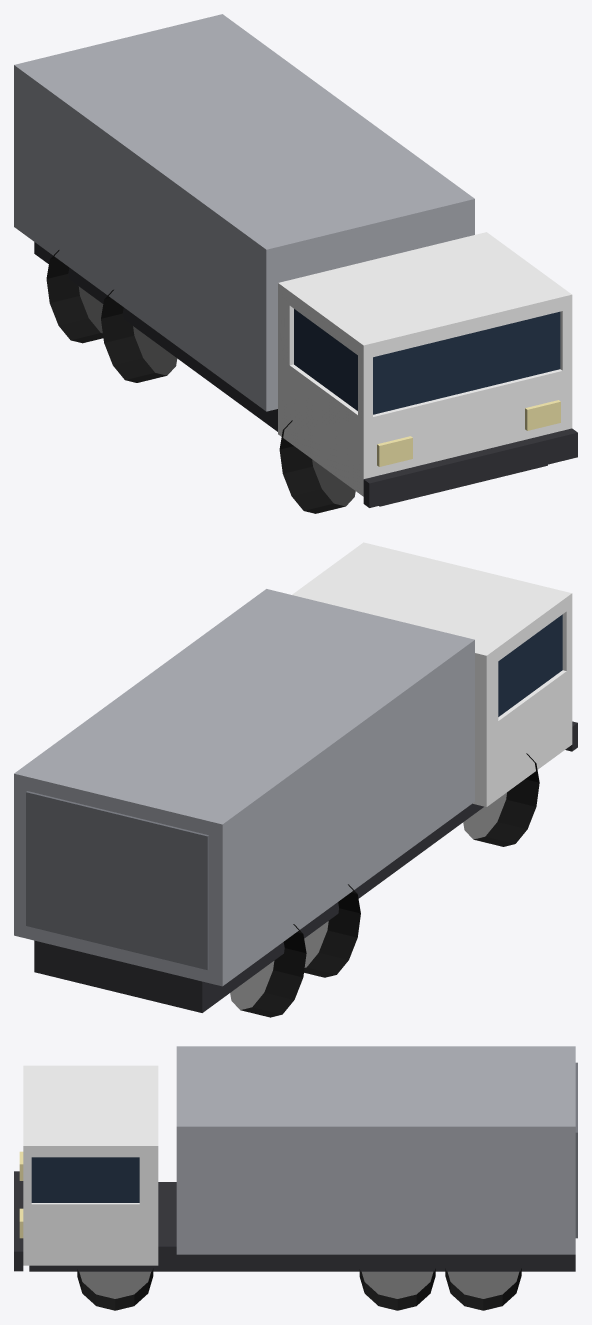
Rendered from lorry.glb.
3 views of the same model, one above another, from view 1: azimuth 30°, elevation 25°; view 2: azimuth 150°, elevation 25°; view 3: azimuth 270°, elevation 25° (orthographic). The views are drawn at different scales.
Size of the model in its own units: 3.15 by 3.3 by 9.19.
